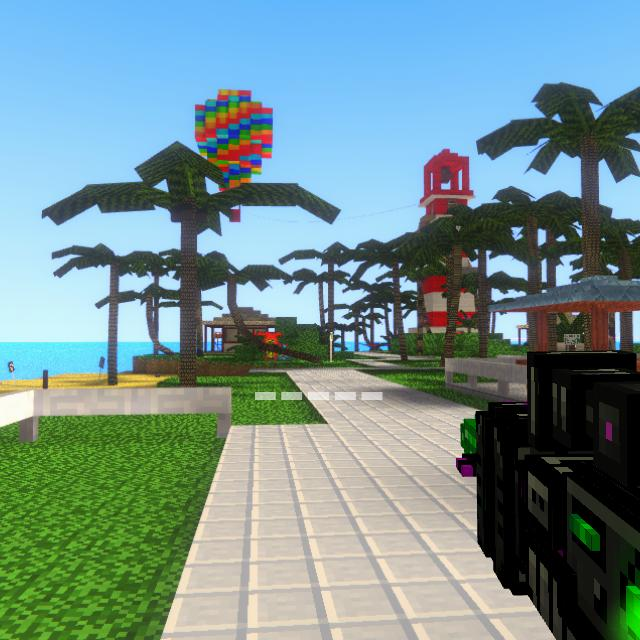Enemy: (266, 339, 275, 361)
